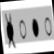correct: (30, 15, 40, 40)
not correct: (3, 10, 16, 51)
